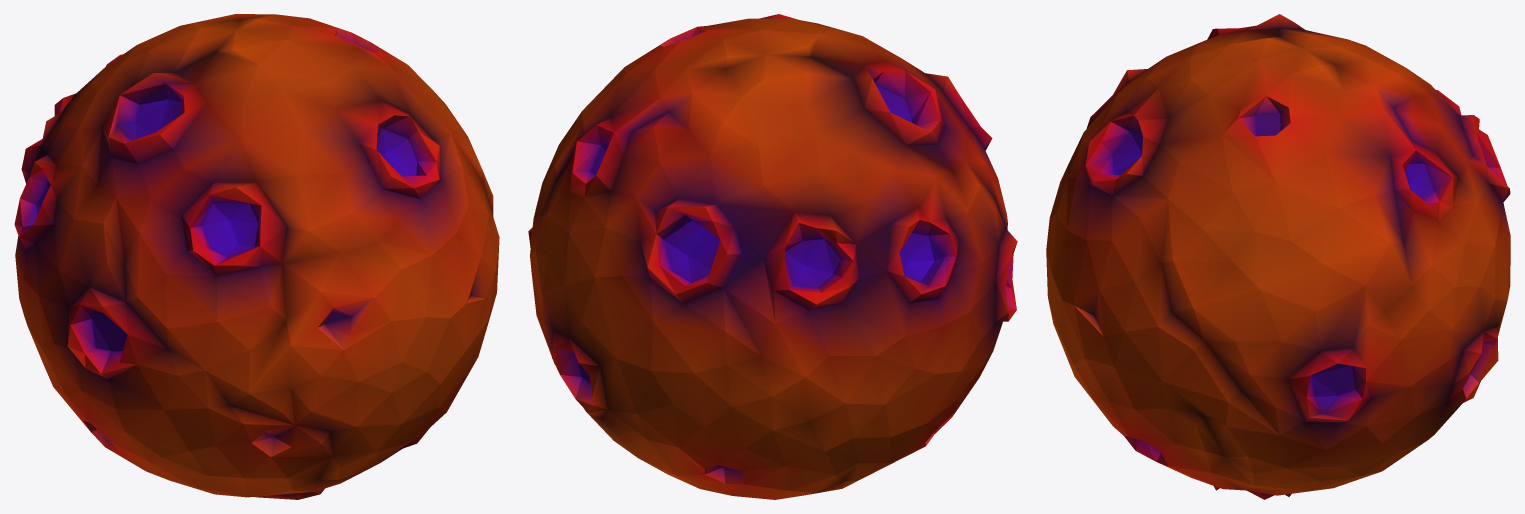
File: moon10.fbx
3 views of the same model, side by side, from view 1: azimuth 30°, elevation 25°; view 2: azimuth 150°, elevation 25°; view 3: azimuth 270°, elevation 25° (orthographic). The views are drawn at different scales.
Parts seen in each view (by area): view 1: attribblur1; view 2: attribblur1; view 3: attribblur1.
Part boxes in pixels (<box>): attribblur1: <box>14,14,499,499</box>; attribblur1: <box>528,14,1017,499</box>; attribblur1: <box>1046,14,1510,499</box>.
Size of the model in its own units: 0.8626 by 0.865 by 0.841.
